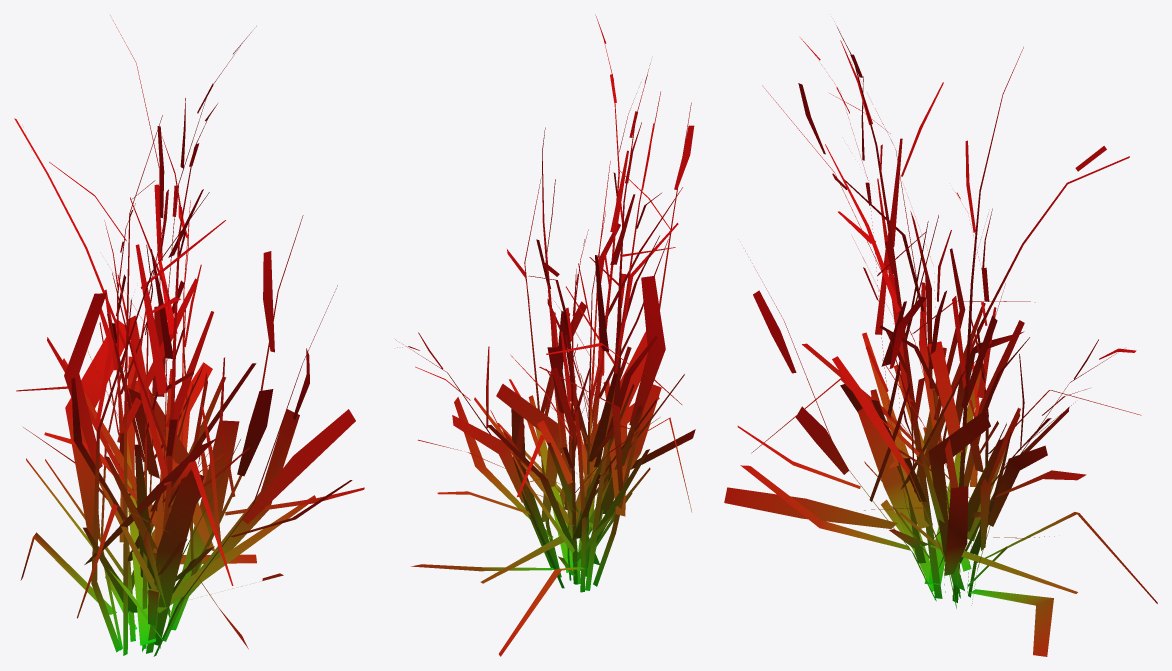
The model's file is static.fbx.
3 views of the same model, side by side, from view 1: azimuth 30°, elevation 25°; view 2: azimuth 150°, elevation 25°; view 3: azimuth 270°, elevation 25° (orthographic). The views are drawn at different scales.
Visible parts, largest first — view 1: _4b63_Var2_LOD3; view 2: _4b63_Var2_LOD3; view 3: _4b63_Var2_LOD3.
Boxes of the visible parts, <box> form: _4b63_Var2_LOD3: <box>14,15,364,656</box>; _4b63_Var2_LOD3: <box>395,14,695,656</box>; _4b63_Var2_LOD3: <box>724,21,1157,656</box>.
Bounding box in the file's own units: 39.68 × 92.45 × 58.92.
